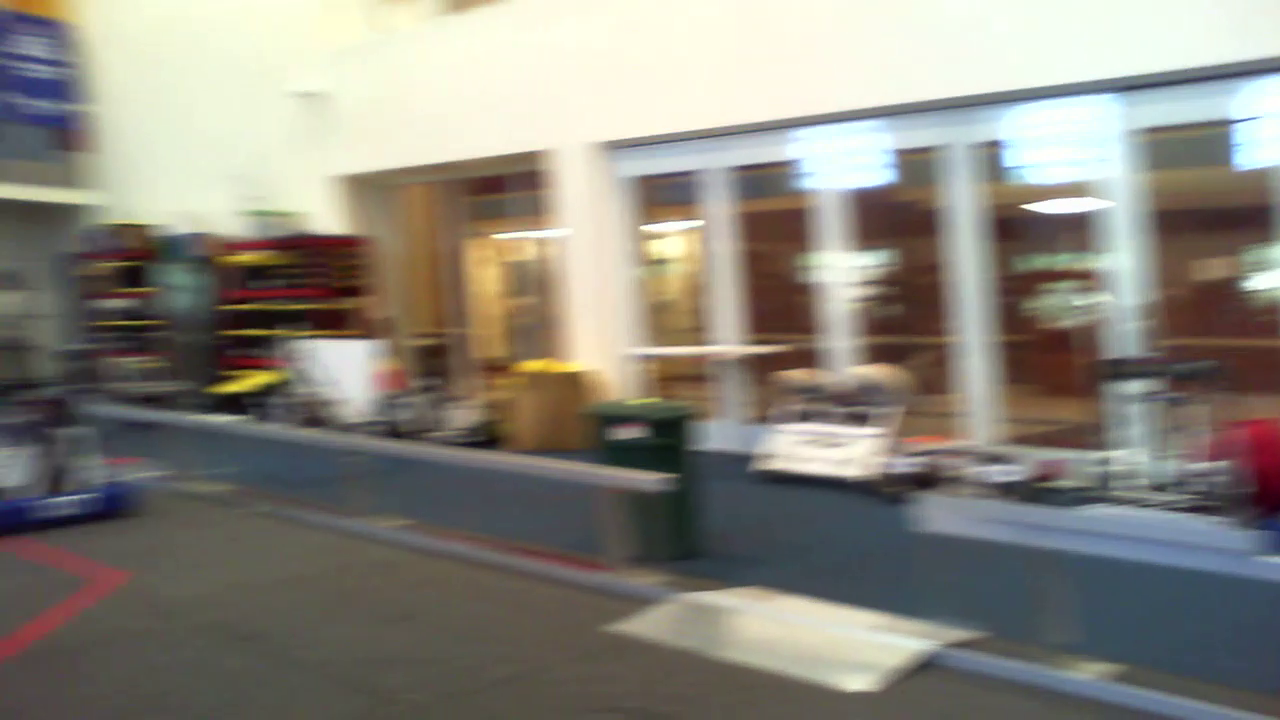blue_robot: (1, 373, 144, 524)
red_tape_corners: (55, 557, 111, 600)
